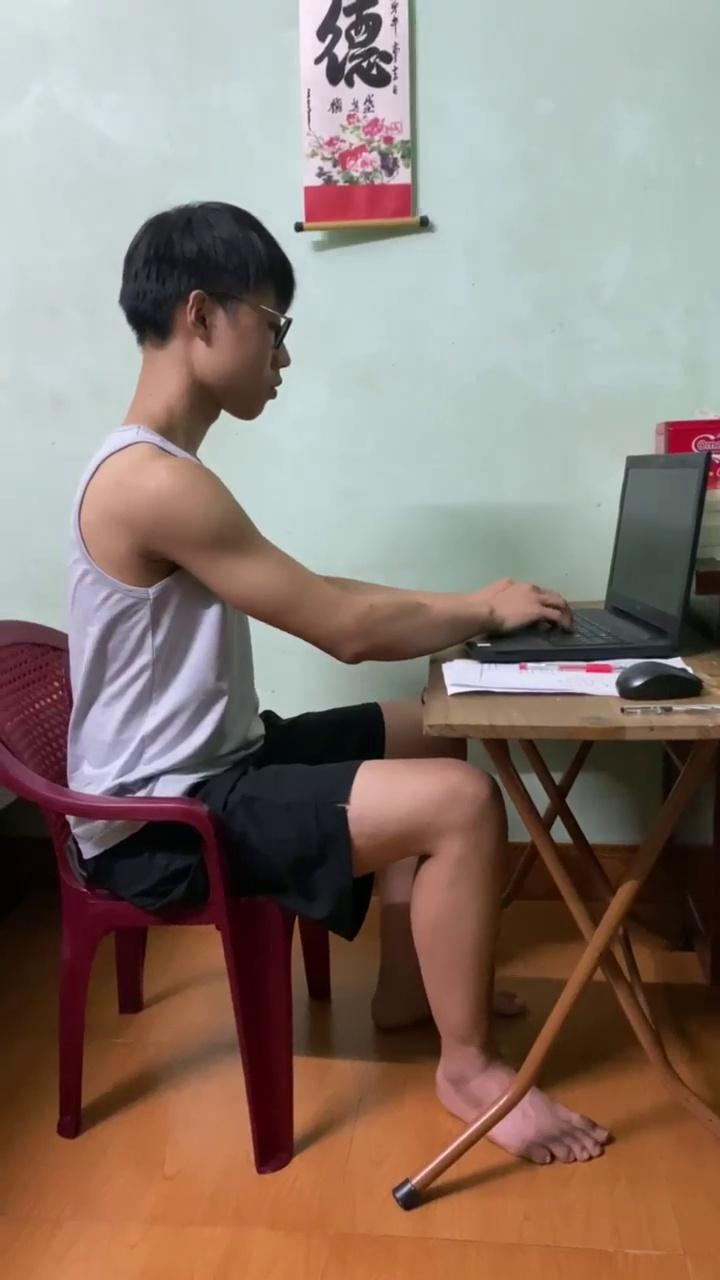GoodPosture: (68, 202, 572, 1121)
